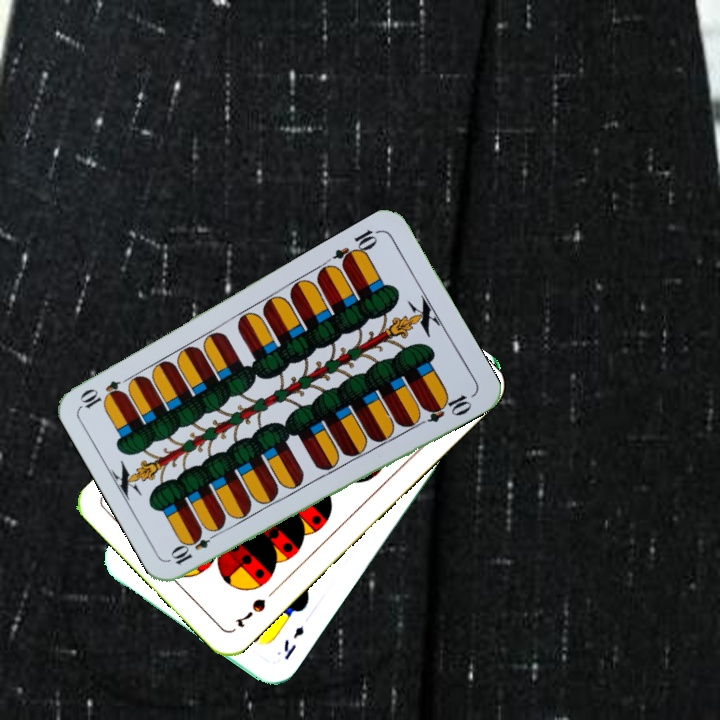E10: (329, 225, 383, 270), (167, 526, 222, 568)
EK: (279, 622, 307, 663)
S7: (232, 595, 269, 631)
